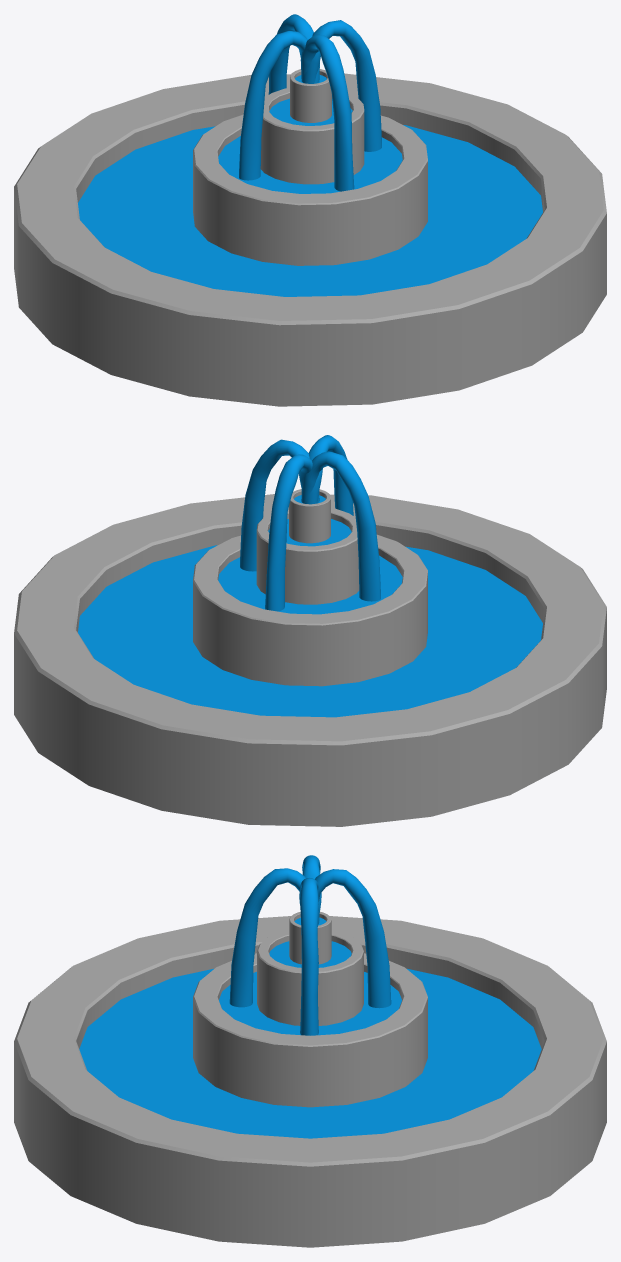
File: Fountain.fbx
3 views of the same model, one above another, from view 1: azimuth 30°, elevation 25°; view 2: azimuth 150°, elevation 25°; view 3: azimuth 270°, elevation 25° (orthographic).
Parts seen in each view (by area): view 1: polySurface6; view 2: polySurface6; view 3: polySurface6.
Boxes of the visible parts, x1,y1,x2,y2 form: polySurface6: [14, 14, 606, 406]; polySurface6: [14, 435, 606, 826]; polySurface6: [14, 855, 606, 1247].
Size of the model in its own units: 10.96 by 5.16 by 10.96.
